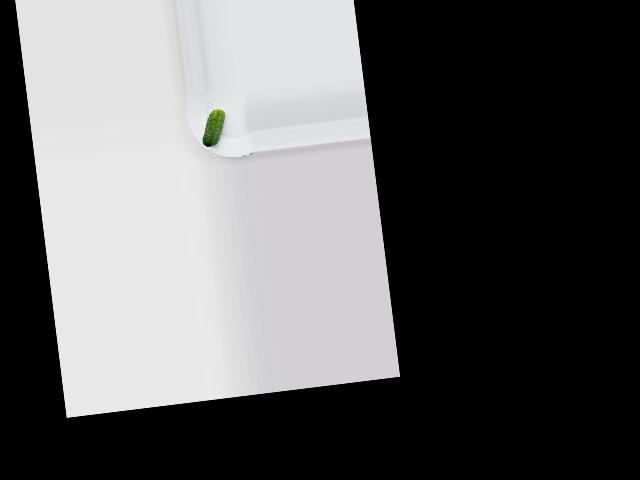cucumber: (199, 108, 228, 147)
